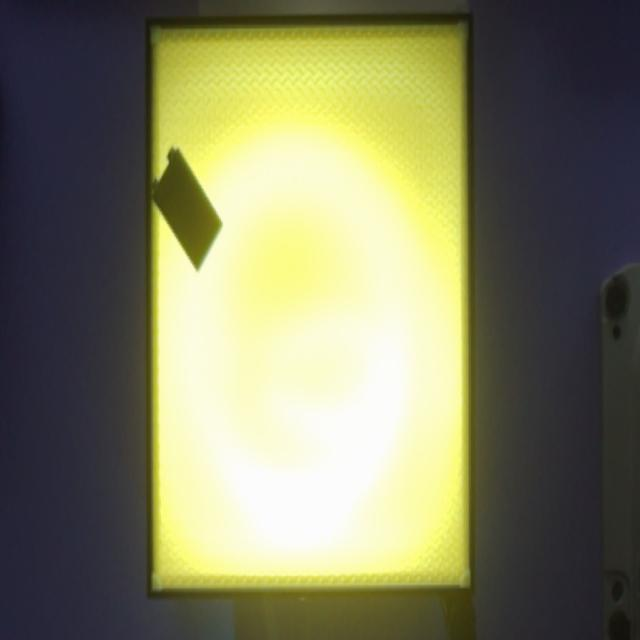bateria: (151, 147, 223, 271)
mesa: (146, 13, 474, 600)
